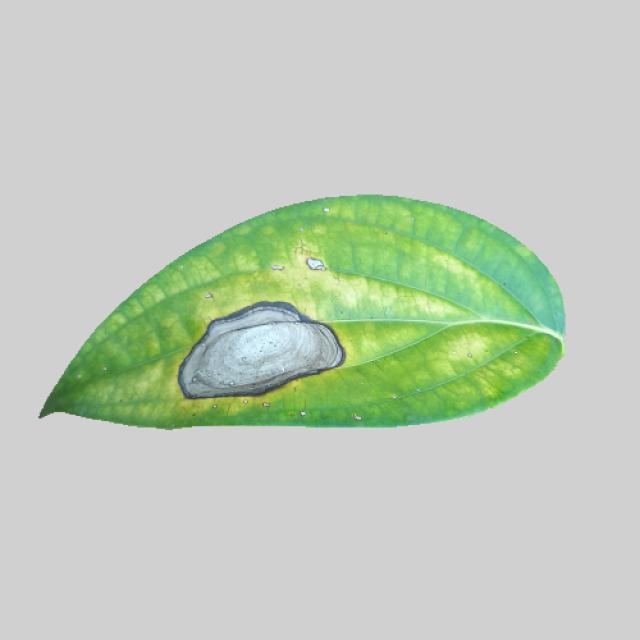leaf-blight: (38, 198, 576, 434)
